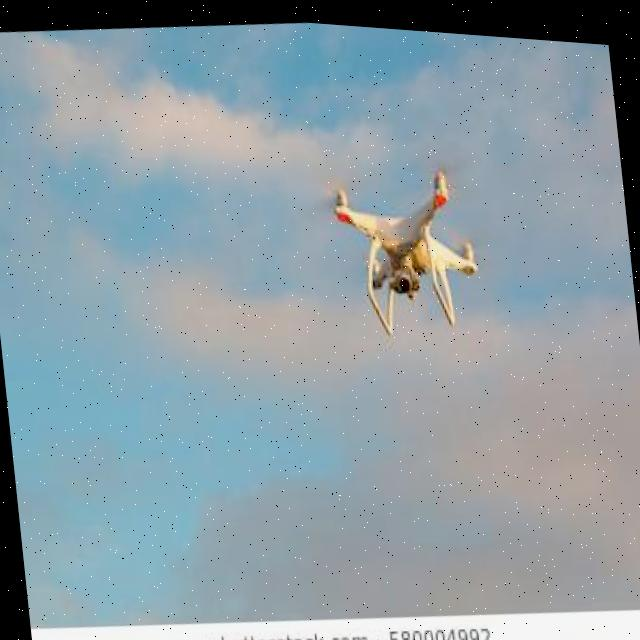drone: (12, 392, 640, 640)
